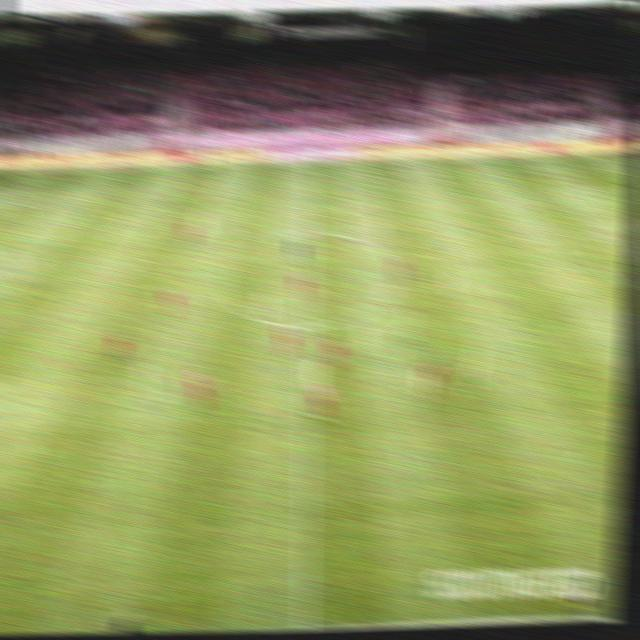bigarea_top_inner: (41, 194, 69, 214), (547, 184, 567, 196)
corner: (607, 150, 629, 162)
halfcircle_bottom: (296, 321, 317, 333)
halfcircle_top: (297, 224, 318, 237)
midline_bottom_intersection: (292, 622, 318, 631)
midline_top_intersection: (297, 156, 319, 168)
top_arc_area_intersection: (0, 239, 25, 256), (589, 225, 610, 239)
